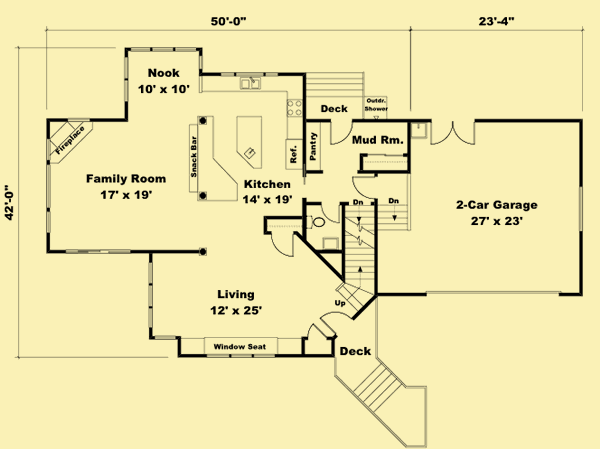door: (428, 114, 479, 148), (318, 305, 358, 336), (267, 228, 298, 259), (349, 172, 380, 201), (326, 117, 355, 146), (317, 199, 344, 223), (304, 320, 328, 344)
kitchen bar: (233, 111, 267, 172)
large sink: (305, 213, 327, 231)
stairs: (328, 360, 434, 449), (341, 194, 413, 312), (302, 69, 367, 120)
twin sink: (237, 75, 263, 91)
windows: (43, 135, 54, 236), (145, 259, 157, 331), (63, 246, 133, 258), (129, 44, 198, 56), (217, 69, 280, 81), (121, 53, 133, 108), (205, 351, 278, 360), (575, 181, 586, 235)
